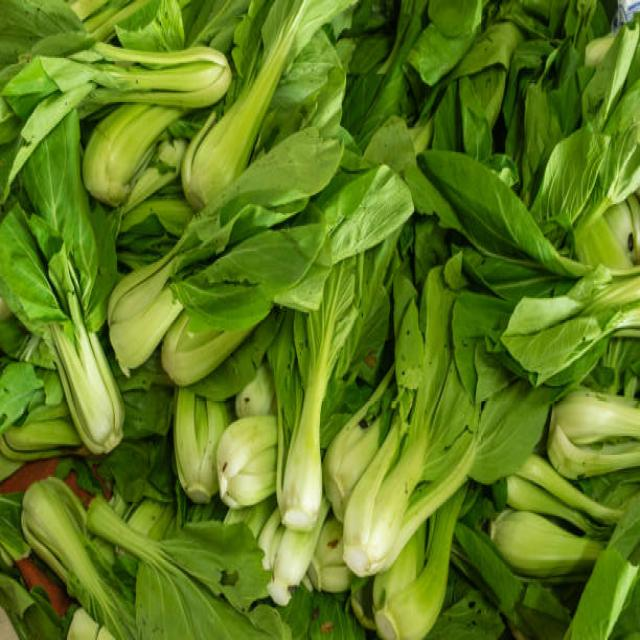Bok Choy: (27, 464, 252, 640), (375, 354, 535, 524), (129, 165, 323, 279), (40, 180, 120, 455), (0, 32, 244, 97), (279, 328, 343, 530), (558, 366, 640, 481), (76, 107, 170, 177), (215, 415, 278, 502)
